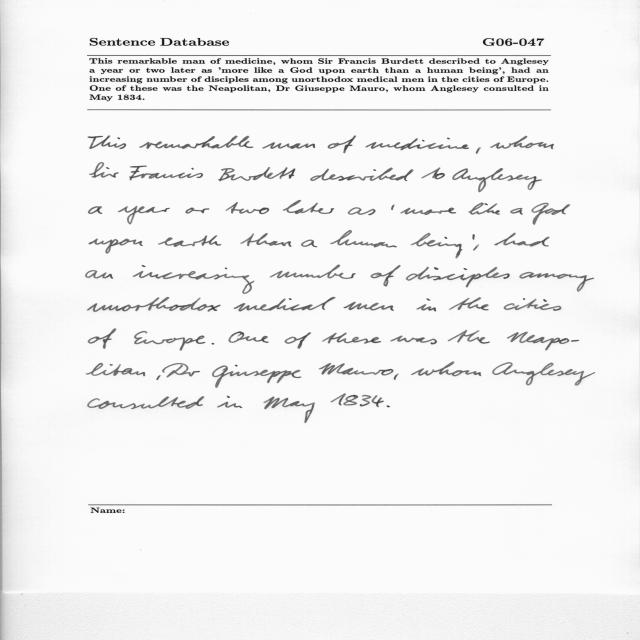word: (133, 265, 254, 294), (492, 362, 595, 386), (406, 267, 510, 288), (452, 168, 542, 192), (212, 365, 301, 388), (88, 297, 221, 312), (234, 297, 336, 312), (88, 396, 204, 409), (519, 272, 594, 292), (139, 136, 253, 149), (134, 331, 205, 351), (507, 332, 579, 351), (310, 168, 414, 181), (263, 397, 315, 423), (411, 233, 462, 258), (365, 138, 469, 150), (270, 265, 356, 279), (330, 231, 397, 248), (129, 166, 203, 181), (218, 167, 295, 181), (411, 362, 481, 376), (118, 206, 170, 224), (319, 363, 393, 375), (531, 203, 570, 225), (490, 136, 554, 149), (89, 239, 143, 254), (494, 233, 550, 247), (158, 235, 222, 247), (86, 363, 145, 376), (504, 298, 562, 311), (240, 233, 292, 247), (283, 200, 334, 214), (330, 394, 384, 407), (322, 333, 381, 344), (371, 265, 401, 286), (448, 330, 490, 344), (88, 329, 116, 349), (162, 363, 200, 377), (226, 202, 270, 214), (449, 297, 489, 310), (88, 136, 126, 149), (228, 331, 269, 343), (328, 136, 356, 153), (90, 162, 119, 178), (343, 302, 394, 311), (400, 207, 456, 215), (285, 332, 311, 349), (390, 336, 437, 345), (469, 202, 500, 215), (263, 142, 316, 149), (217, 396, 242, 408), (421, 168, 445, 180), (417, 299, 437, 312), (86, 270, 113, 279), (348, 208, 376, 216), (186, 207, 210, 214), (301, 240, 318, 248), (89, 206, 102, 214), (510, 208, 523, 215), (473, 245, 479, 251), (476, 147, 481, 154), (394, 373, 399, 380), (156, 375, 161, 380), (391, 205, 395, 210), (472, 234, 475, 240), (386, 406, 390, 408), (212, 343, 215, 345)
